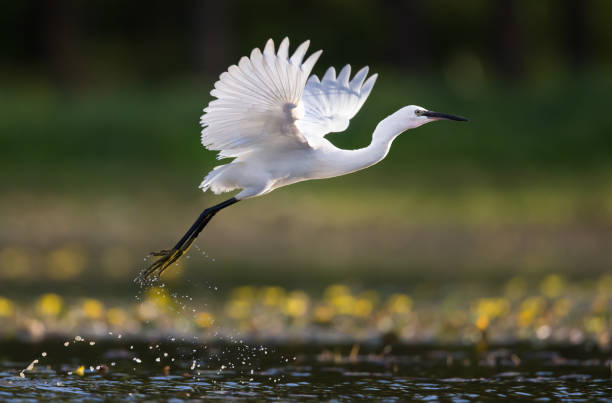Bird: (125, 33, 469, 285)
